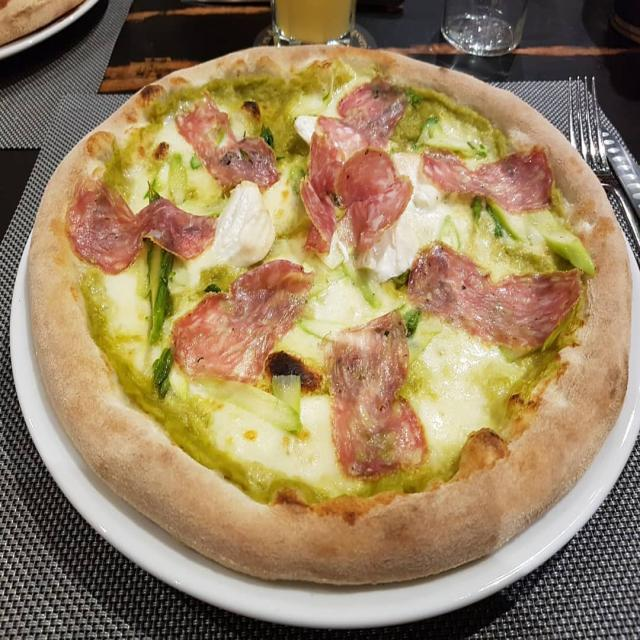pepperoni: (405, 235, 580, 352), (162, 257, 314, 388), (319, 308, 430, 480), (65, 179, 220, 274), (302, 132, 414, 256), (174, 88, 280, 195), (416, 142, 556, 214), (316, 75, 405, 164)
pizza: (30, 45, 631, 583)
